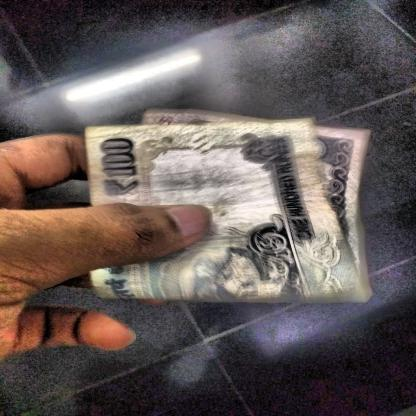Rs100: (93, 134, 147, 200)
